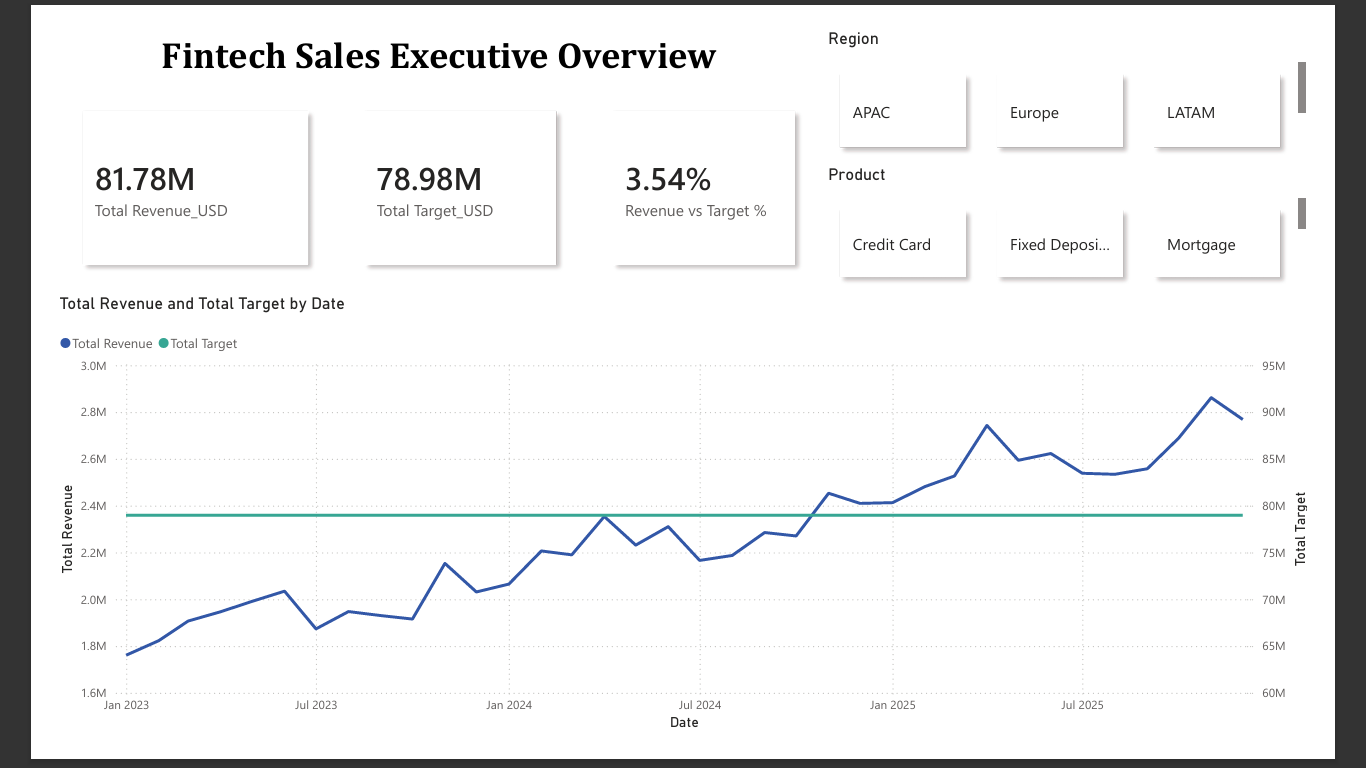

The dashboard page shown, as its layout file describes it:
{"tool":"powerbi","page":{"name":"Executive Overview","canvas":[1280,720],"ordinal":0},"visuals":[{"type":"cardVisual","fields":{"Data":["Sum(fintech_sales_raw.Revenue_USD)"]},"box":[0,54.7,286.7,214.7],"z":0},{"type":"cardVisual","fields":{"Data":["fintech_sales_raw.Total Target"]},"box":[286.7,54.7,253.3,214.7],"z":1000},{"type":"cardVisual","fields":{"Data":["fintech_sales_raw.Revenue vs Target %"]},"box":[540,54.7,242.7,214.7],"z":2000},{"type":"lineChart","fields":{"Category":["fintech_sales_raw.Date"],"Y":["fintech_sales_raw.Total Revenue"],"Y2":["fintech_sales_raw.Total Target"]},"box":[0,269.8,1280,450.1],"z":3000},{"type":"advancedSlicerVisual","fields":{"Values":["fintech_sales_raw.Region"]},"box":[783.1,0,496.9,137.6],"z":4000},{"type":"advancedSlicerVisual","fields":{"Values":["fintech_sales_raw.Product"]},"box":[783.1,137.6,496.9,132.1],"z":5000},{"type":"textbox","box":[0,0,782.7,54.7],"z":5001}]}

Visuals, with their boxes in screenshot pixels (x1, y1, x2, y2), scaled from the page's 1280x720 canvas onto the 1366x768 screenshot:
cardVisual - Sum(fintech_sales_raw.Revenue_USD): BBox(0, 58, 306, 287)
cardVisual - fintech_sales_raw.Total Target: BBox(306, 58, 576, 287)
cardVisual - fintech_sales_raw.Revenue vs Target %: BBox(576, 58, 835, 287)
lineChart - fintech_sales_raw.Date x fintech_sales_raw.Total Revenue: BBox(0, 288, 1365, 767)
advancedSlicerVisual - fintech_sales_raw.Region: BBox(836, 0, 1365, 147)
advancedSlicerVisual - fintech_sales_raw.Product: BBox(836, 147, 1365, 288)
textbox: BBox(0, 0, 835, 58)
